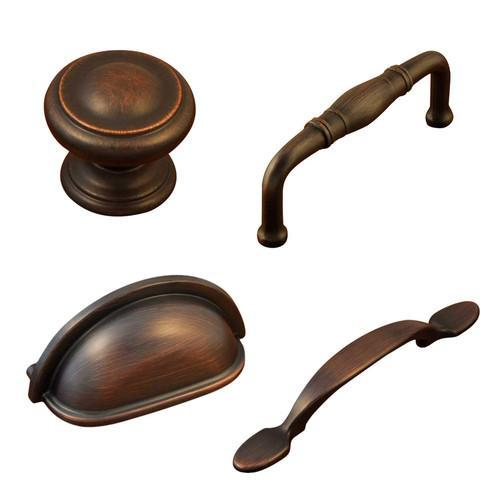handle: (252, 48, 467, 234), (257, 325, 473, 483), (12, 276, 248, 417), (36, 47, 205, 219)
